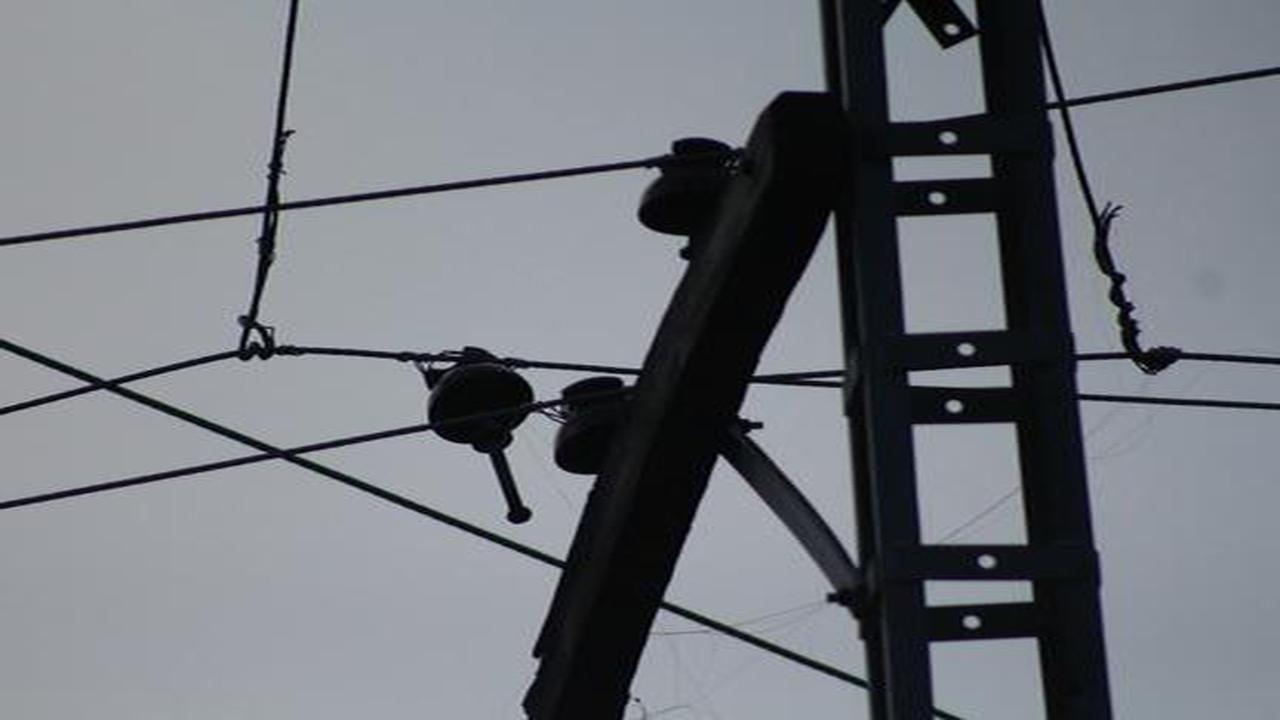insulator_pin: (632, 132, 750, 239), (416, 341, 536, 442), (550, 369, 643, 478)
